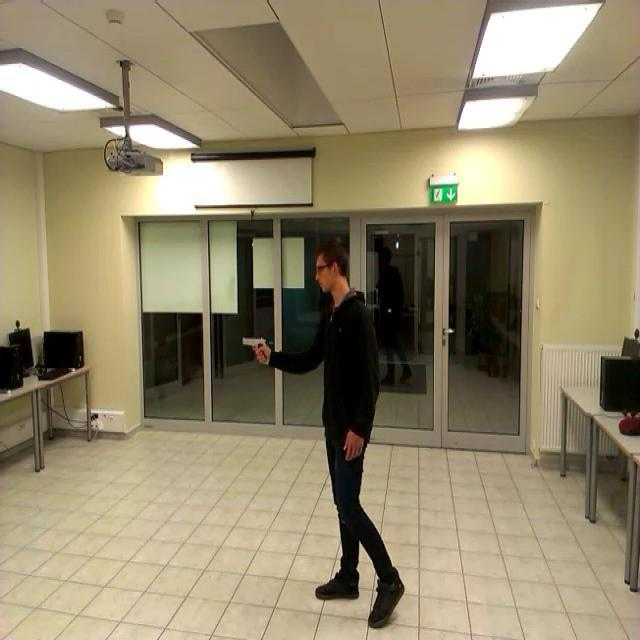weapon: (238, 335, 270, 367)
